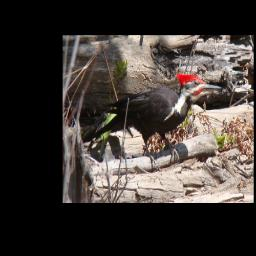Woodpecker: (83, 72, 224, 168)
